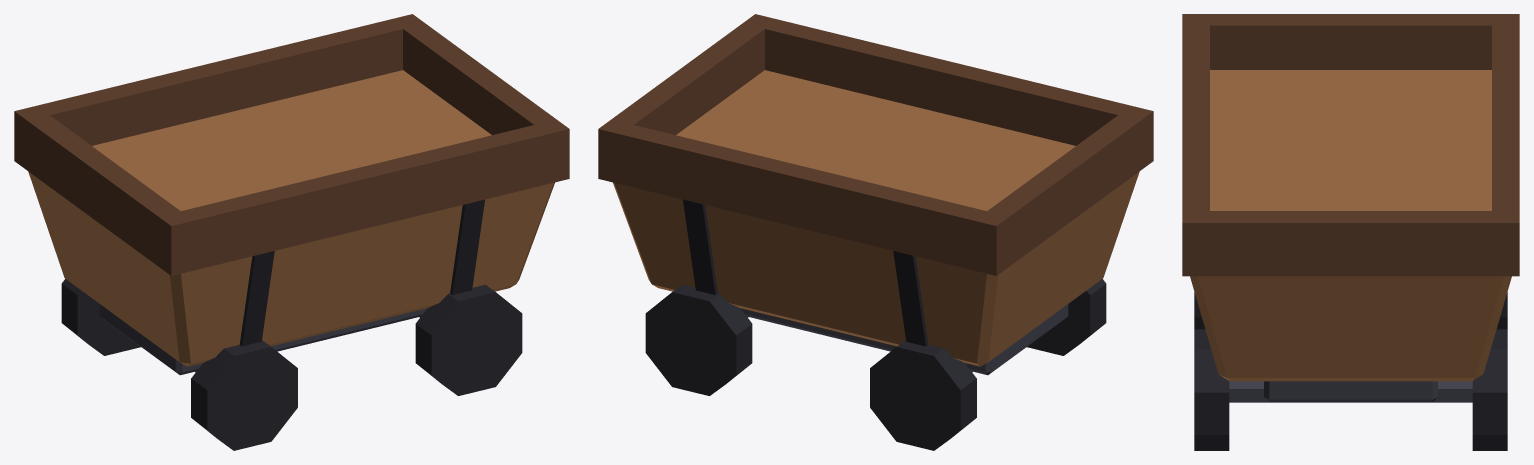
The model's file is Mine_Cart1.fbx.
The picture shows the model from 3 angles, left to right: view 1: azimuth 30°, elevation 25°; view 2: azimuth 150°, elevation 25°; view 3: azimuth 270°, elevation 25°; orthographic projection. The views are drawn at different scales.
Parts seen in each view (by area): view 1: timber.002, spool.003, iron_dk.001, iron.003; view 2: timber.002, spool.003, iron_dk.001, iron.003; view 3: timber.002, spool.003, iron_dk.001, iron.003.
Boxes of the visible parts, <box> form: timber.002: <box>28,70,554,366</box>; spool.003: <box>14,14,569,275</box>; iron_dk.001: <box>61,199,522,450</box>; iron.003: <box>99,304,426,375</box>; timber.002: <box>613,70,1139,366</box>; spool.003: <box>598,14,1153,275</box>; iron_dk.001: <box>645,199,1106,450</box>; iron.003: <box>741,304,1068,375</box>; timber.002: <box>1190,70,1511,381</box>; spool.003: <box>1182,14,1519,276</box>; iron_dk.001: <box>1194,292,1507,450</box>; iron.003: <box>1229,381,1472,402</box>.
Size of the model in its own units: 2.84 by 1.67 by 1.94.
